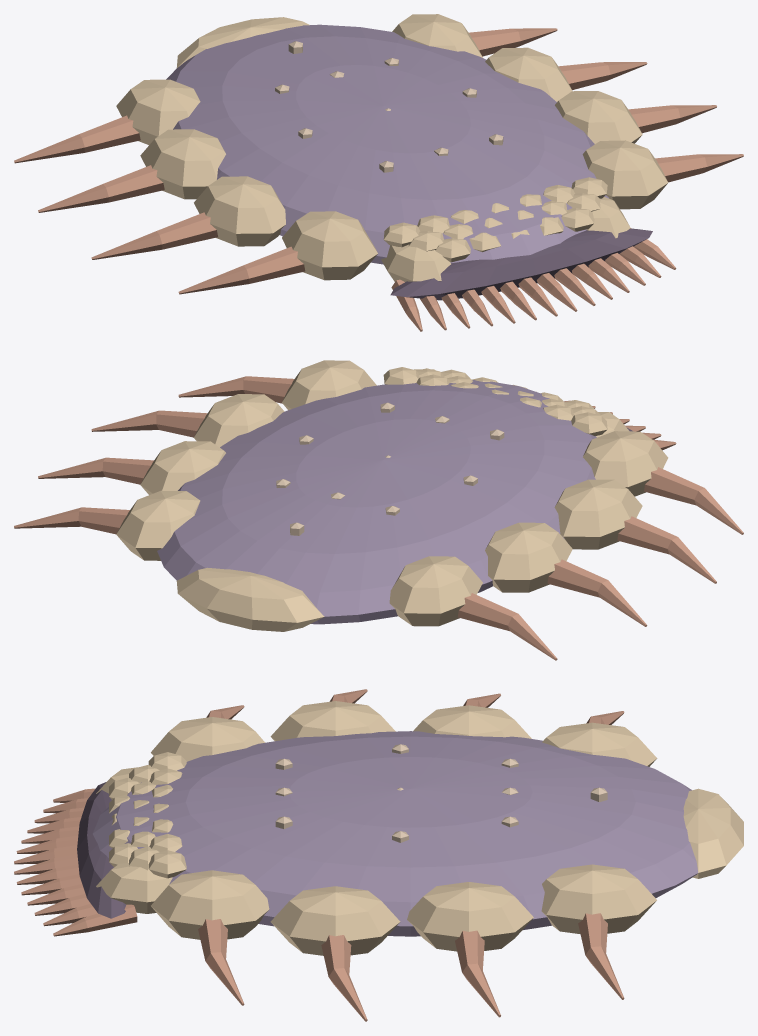
Rendered from ctenoimbricata.glb.
The picture shows the model from 3 angles, top to bottom: view 1: azimuth 30°, elevation 25°; view 2: azimuth 150°, elevation 25°; view 3: azimuth 270°, elevation 25°; orthographic projection. The views are drawn at different scales.
Parts seen in each view (by area): view 1: Low plated membrane, Anterior comb - 14 closed elements, Imbricate dorsal roof, Anterior oral recess, Marginal M3 L, Marginal M2 L, Marginal M4 L, Marginal M2 R, Marginal M5 L, Marginal M3 R, Marginal M4 R, Marginal M5 R (+12 smaller); view 2: Low plated membrane, Single posterior marginal Mp, Marginal M5 L, Marginal M4 L, Marginal M3 L, Marginal M2 L, Marginal M5 R, Imbricate dorsal roof, Marginal M3 R, Marginal M4 R, Marginal M2 R, Lateral spine 2 -1 (+8 smaller); view 3: Low plated membrane, Anterior comb - 14 closed elements, Marginal M3 R, Marginal M4 R, Marginal M5 R, Marginal M2 R, Imbricate dorsal roof, Single posterior marginal Mp, Marginal M3 L, Marginal M2 L, Anterior oral recess, Marginal M5 L (+7 smaller).
Part boxes in pixels (<box>): Low plated membrane: <box>166,24,609,264</box>; Anterior comb - 14 closed elements: <box>391,228,676,331</box>; Imbricate dorsal roof: <box>383,177,607,262</box>; Anterior oral recess: <box>390,228,652,300</box>; Marginal M3 L: <box>194,176,285,246</box>; Marginal M2 L: <box>282,211,377,280</box>; Marginal M4 L: <box>140,129,225,199</box>; Marginal M2 R: <box>582,140,668,209</box>; Marginal M5 L: <box>116,79,200,144</box>; Marginal M3 R: <box>555,91,642,143</box>; Marginal M4 R: <box>485,47,572,101</box>; Marginal M5 R: <box>392,14,482,57</box>; Low plated membrane: <box>157,380,596,624</box>; Single posterior marginal Mp: <box>176,567,324,631</box>; Marginal M5 L: <box>389,556,482,626</box>; Marginal M4 L: <box>485,522,572,592</box>; Marginal M3 L: <box>554,479,642,549</box>; Marginal M2 L: <box>583,431,668,496</box>; Marginal M5 R: <box>116,490,200,560</box>; Imbricate dorsal roof: <box>383,367,607,435</box>; Marginal M3 R: <box>193,394,284,447</box>; Marginal M4 R: <box>140,441,225,494</box>; Marginal M2 R: <box>282,360,376,410</box>; Lateral spine 2 -1: <box>644,467,743,534</box>; Low plated membrane: <box>92,731,698,936</box>; Anterior comb - 14 closed elements: <box>14,788,137,936</box>; Marginal M3 R: <box>270,886,400,955</box>; Marginal M4 R: <box>407,882,533,951</box>; Marginal M5 R: <box>541,864,656,934</box>; Marginal M2 R: <box>151,870,269,939</box>; Imbricate dorsal roof: <box>109,752,186,878</box>; Single posterior marginal Mp: <box>683,788,743,878</box>; Marginal M3 L: <box>270,701,395,741</box>; Marginal M2 L: <box>151,717,264,761</box>; Anterior oral recess: <box>77,782,125,918</box>; Marginal M5 L: <box>542,722,657,766</box>.
Size of the model in its own units: 0.0228 by 0.00294 by 0.0213.
